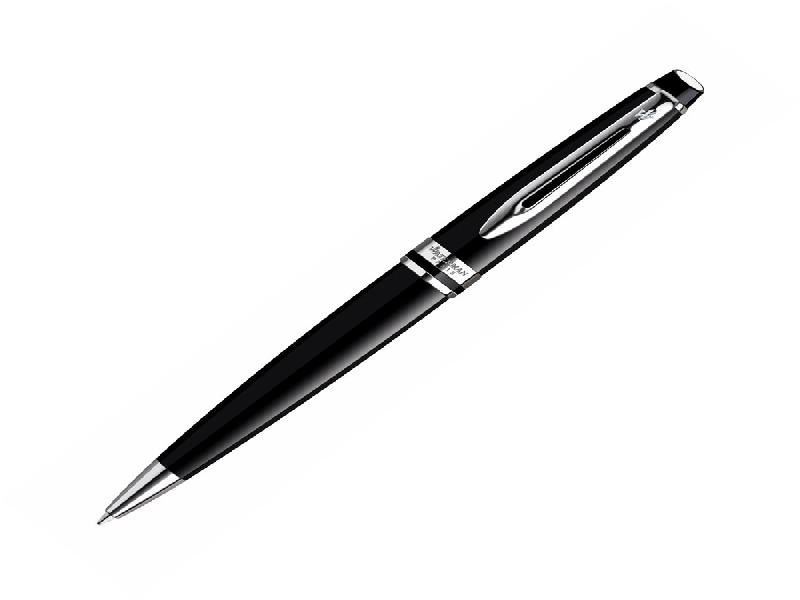pen: (95, 63, 710, 538)
